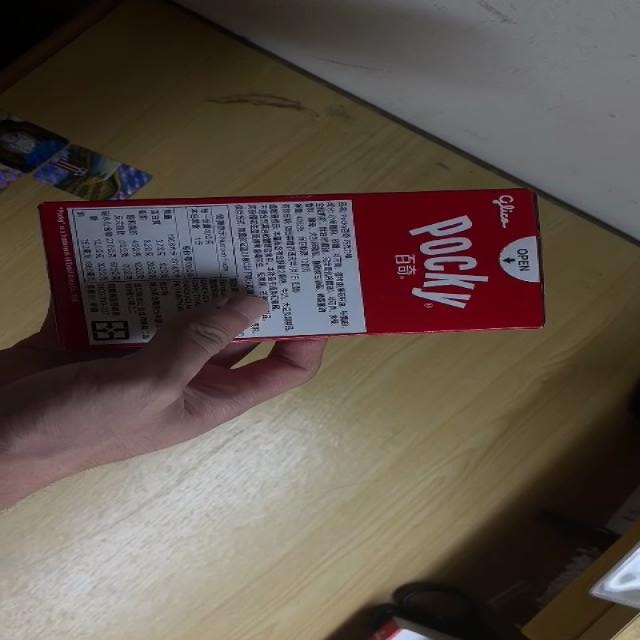Pocky: (41, 188, 545, 359)
